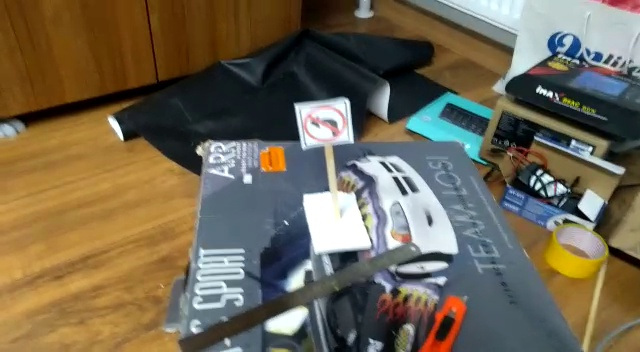sola_donulmez: (301, 104, 351, 144)
